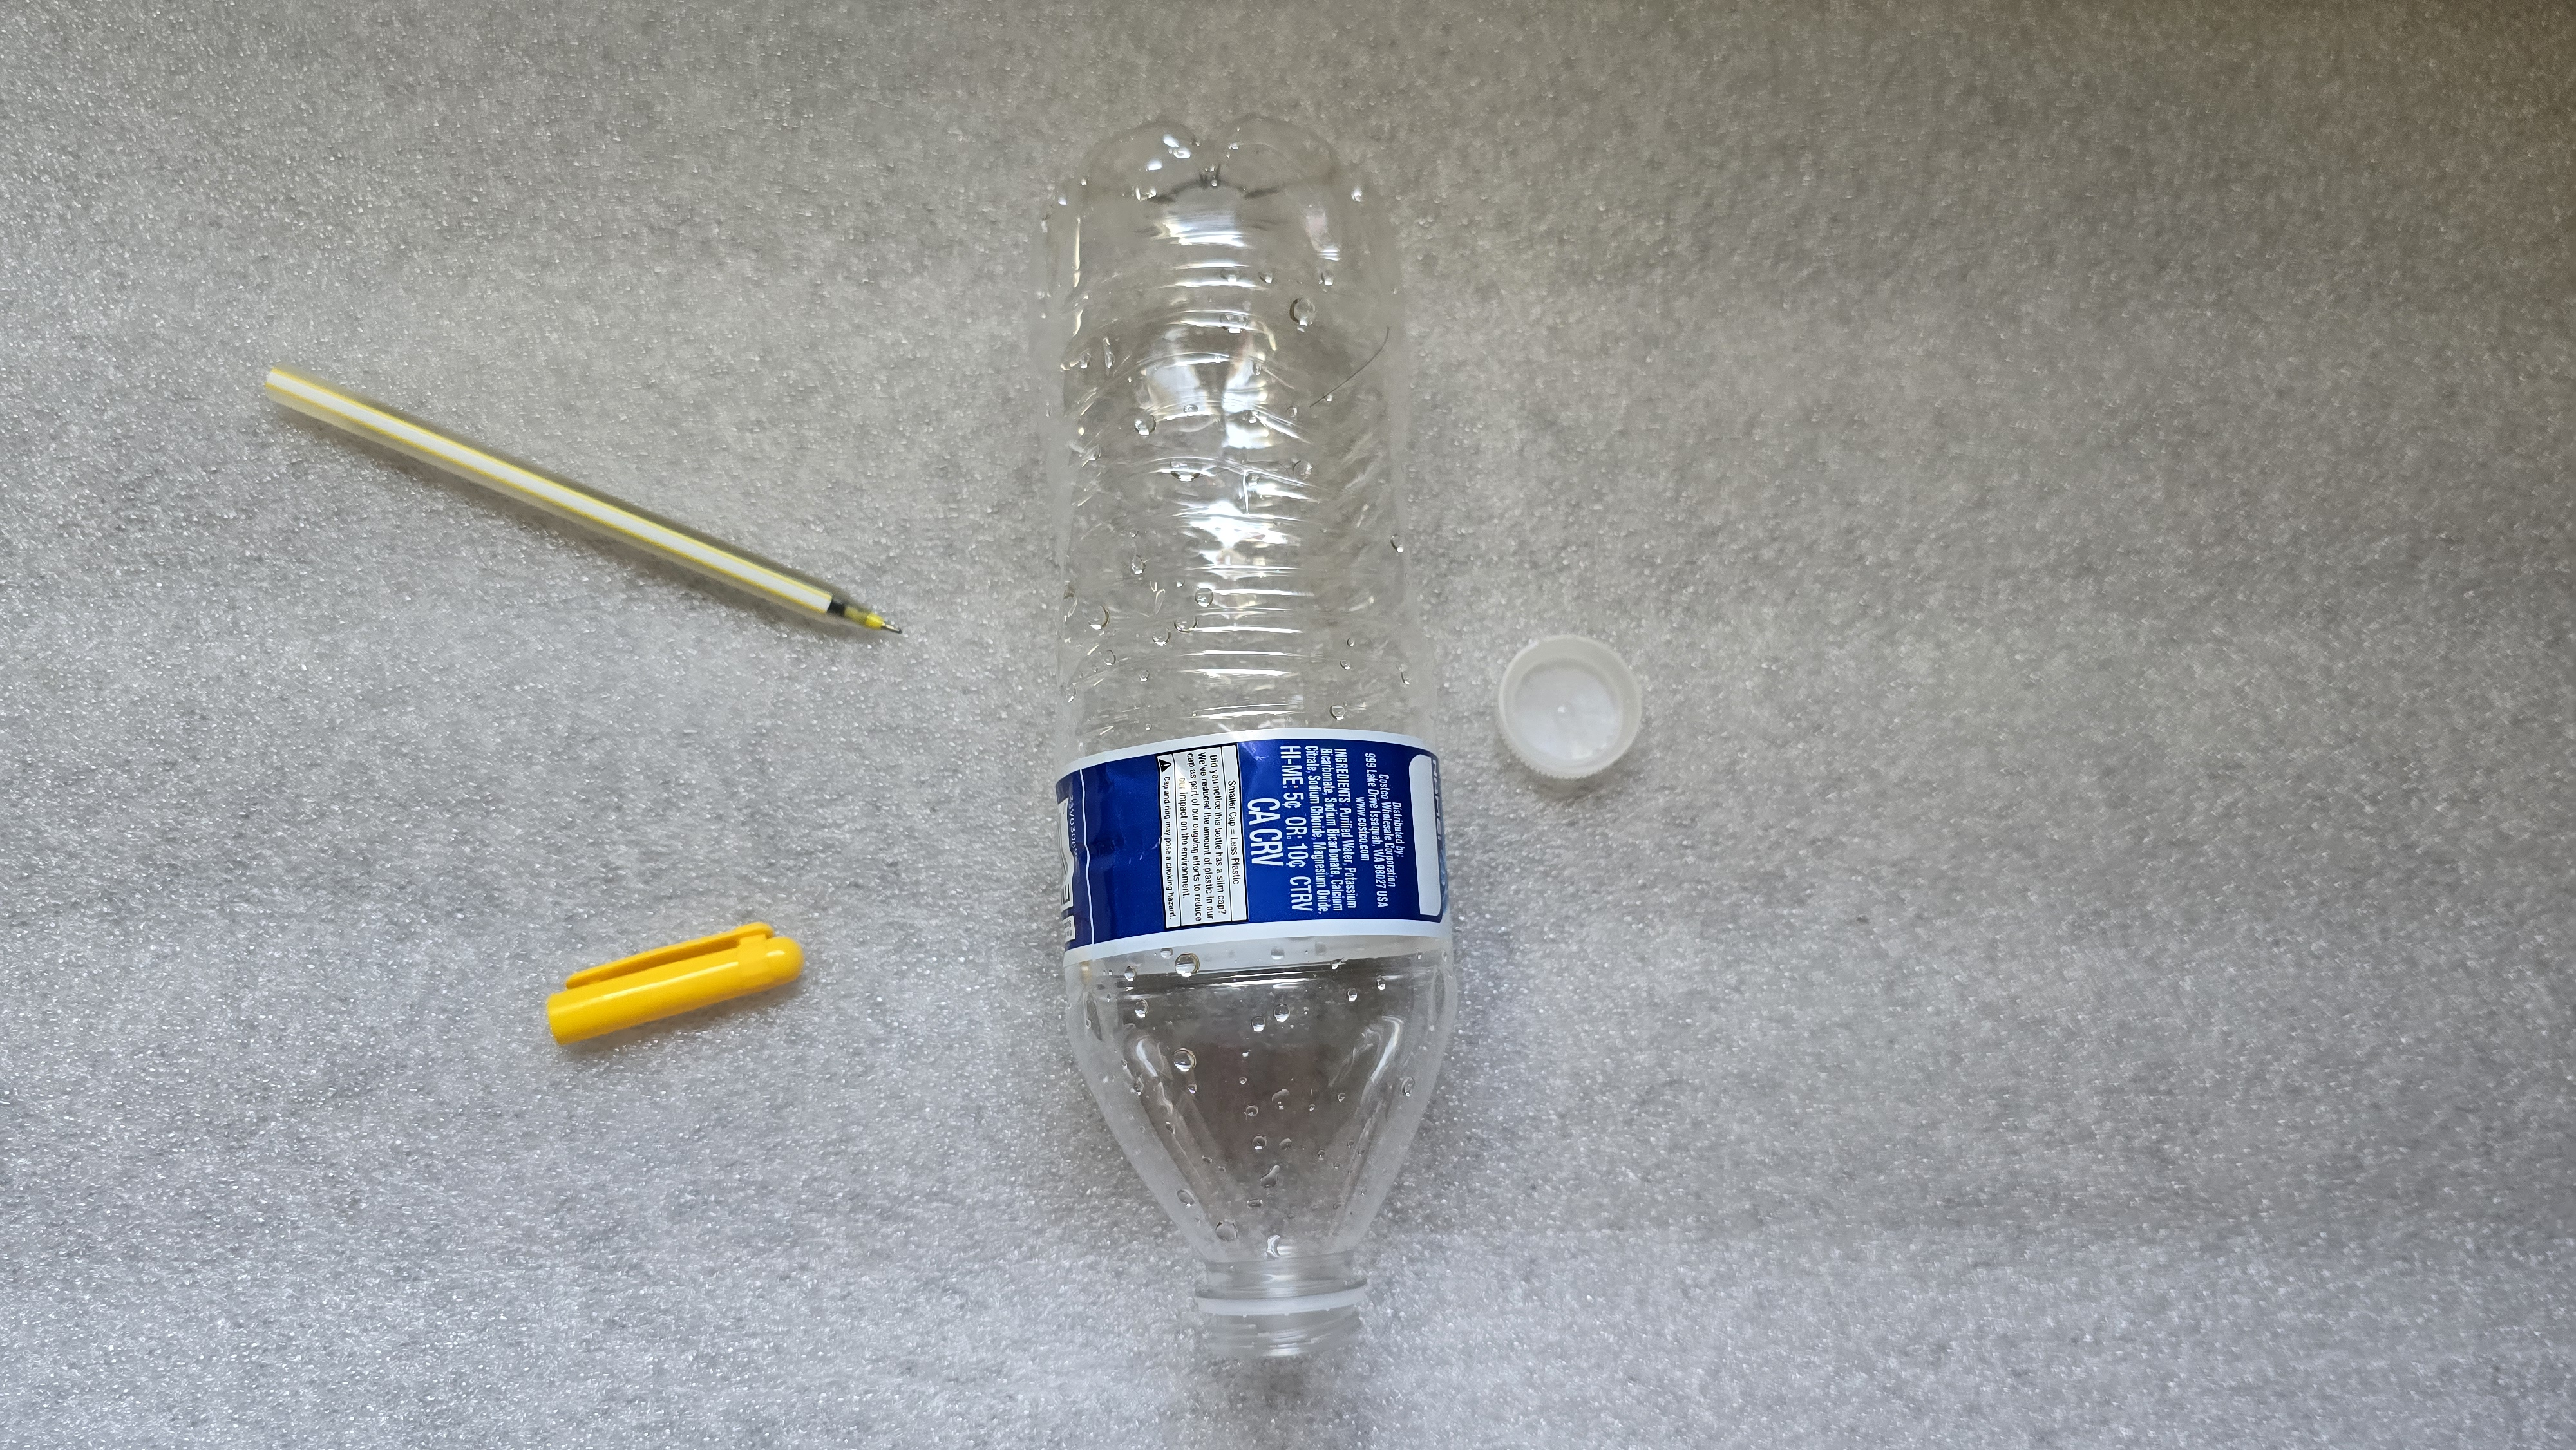bottle: (1035, 93, 1501, 1450)
